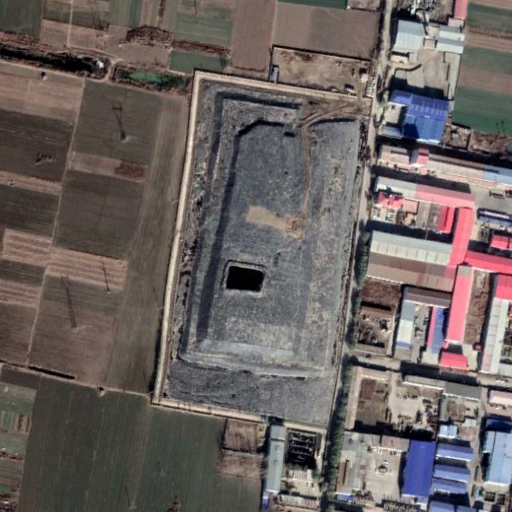lf: (162, 80, 371, 429)
